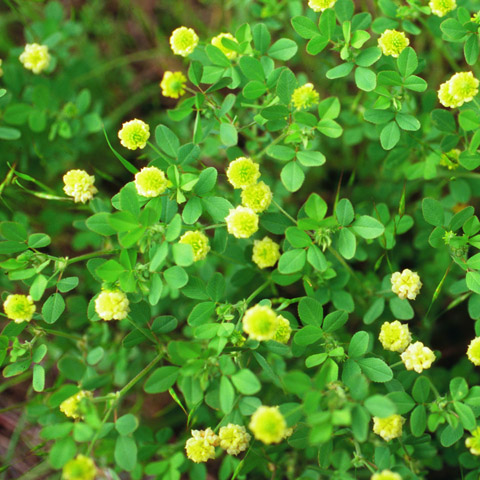clover: (27, 24, 466, 467)
